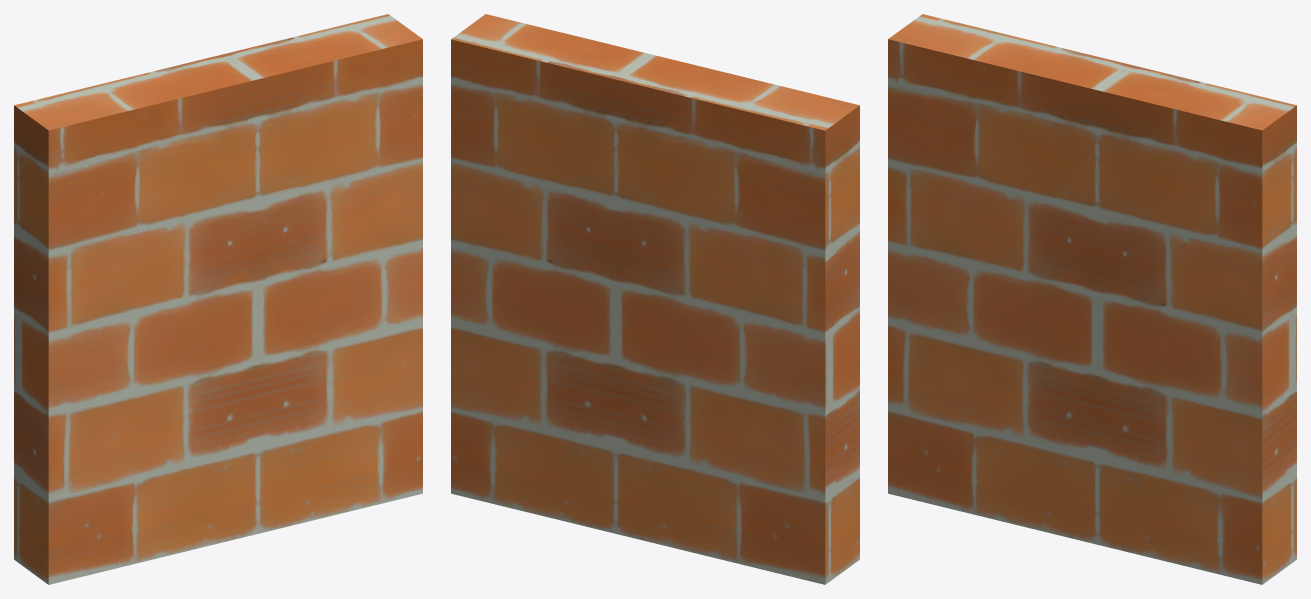
File: Half_Brick_Wall_03.fbx
The picture shows the model from 3 angles, left to right: view 1: azimuth 30°, elevation 25°; view 2: azimuth 150°, elevation 25°; view 3: azimuth 330°, elevation 25°; orthographic projection.
Parts seen in each view (by area): view 1: Half_Brick_Wall_03; view 2: Half_Brick_Wall_03; view 3: Half_Brick_Wall_03.
Part boxes in pixels (x1,y1,x2,y2): Half_Brick_Wall_03: [14, 14, 422, 584]; Half_Brick_Wall_03: [451, 14, 859, 584]; Half_Brick_Wall_03: [888, 14, 1296, 584].
Size of the model in its own units: 125 by 145 by 20.
